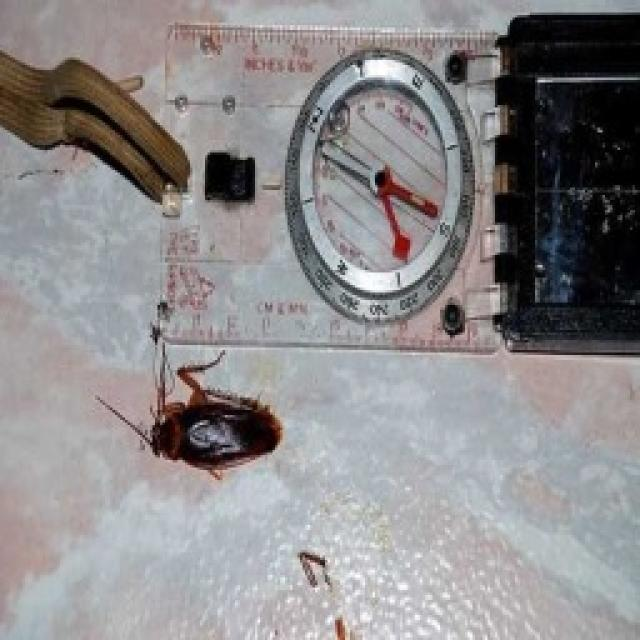cockroach: (91, 300, 287, 484)
